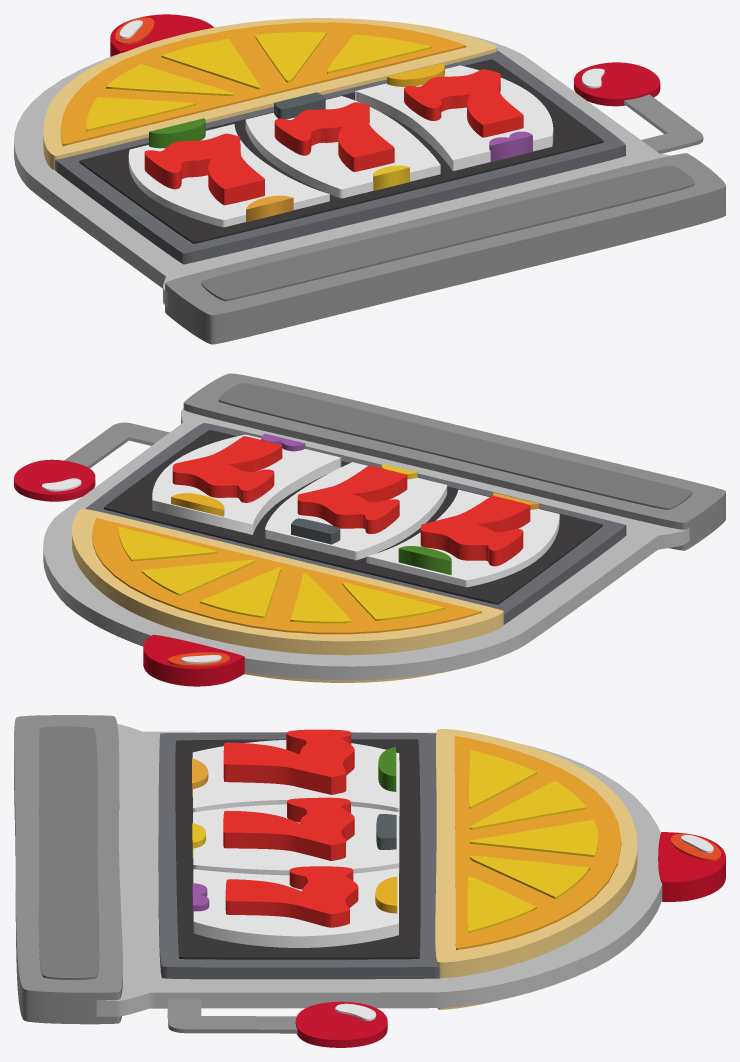
Rendered from emoji_u1f3b0.glb.
The picture shows the model from 3 angles, top to bottom: view 1: azimuth 30°, elevation 25°; view 2: azimuth 150°, elevation 25°; view 3: azimuth 270°, elevation 25°; orthographic projection. The views are drawn at different scales.
Visible parts, largest first — view 1: emoji_u1f3b0; view 2: emoji_u1f3b0; view 3: emoji_u1f3b0.
Boxes of the visible parts, box(x1,y1,x2,y2) form: emoji_u1f3b0: box(14, 14, 725, 344); emoji_u1f3b0: box(14, 373, 725, 686); emoji_u1f3b0: box(14, 715, 725, 1047).
Bounding box in the file's own units: 0.0342 × 0.0048 × 0.0328.
